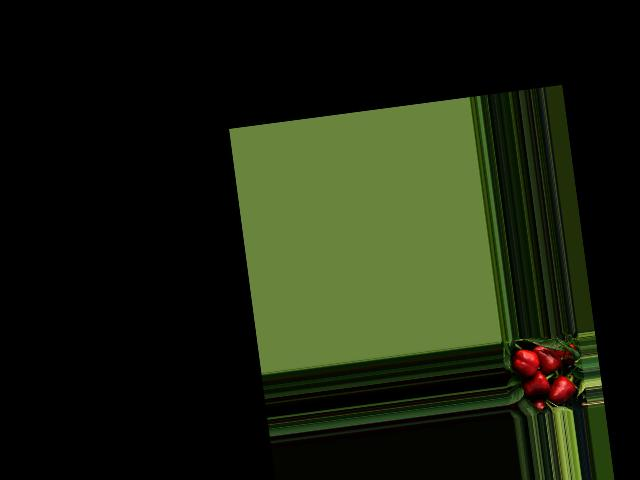bell_pepper: (511, 345, 542, 385)
